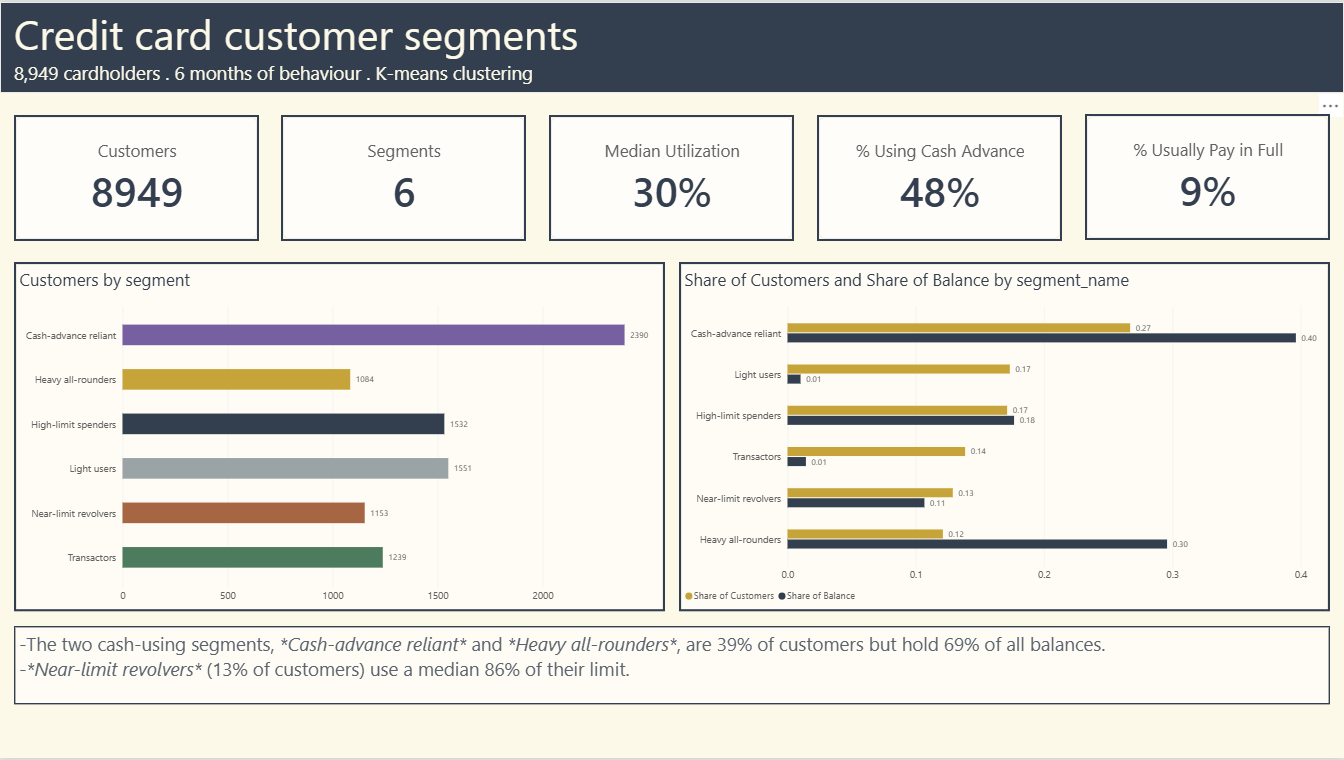

The page's visual inventory and layout, read from the dashboard file:
{"tool":"powerbi","page":{"name":"Overview","canvas":[1920,1080],"ordinal":0},"visuals":[{"type":"textbox","box":[0,0,1920,130],"z":0},{"type":"cardVisual","fields":{"Data":["_Measures.Customers"]},"box":[19.4,161.7,350,180],"z":1000},{"type":"cardVisual","fields":{"Data":["_Measures.Segments"]},"box":[402,161.2,350,180],"z":2000},{"type":"cardVisual","fields":{"Data":["_Measures.Median Utilization"]},"box":[784.7,161.2,350,180],"z":3000},{"type":"cardVisual","fields":{"Data":["_Measures.% Using Cash Advance"]},"box":[1167.3,161.2,350,180],"z":4000},{"type":"cardVisual","fields":{"Data":["_Measures.% Usually Pay in Full"]},"box":[1550,160.4,350,180],"z":5000},{"type":"clusteredBarChart","title":"Customers by segment ","fields":{"Category":["segments.segment_name"],"Y":["_Measures.Customers"]},"box":[19.4,371.3,930.2,499.4],"z":6000},{"type":"clusteredBarChart","fields":{"Category":["segments.segment_name"],"Y":["_Measures.Share of Customers","_Measures.Share of Balance"]},"box":[970.4,371.3,930.2,499.4],"z":7000},{"type":"textbox","box":[20,892.1,1880.1,111.8],"z":8000}]}

Visuals, with their boxes in screenshot pixels (x1, y1, x2, y2), scaled from the page's 1920x1080 canvas onto the 1344x760 screenshot:
textbox: 0,0,1343,91
cardVisual - _Measures.Customers: 14,114,259,240
cardVisual - _Measures.Segments: 281,113,526,240
cardVisual - _Measures.Median Utilization: 549,113,794,240
cardVisual - _Measures.% Using Cash Advance: 817,113,1062,240
cardVisual - _Measures.% Usually Pay in Full: 1085,113,1330,240
"Customers by segment " clusteredBarChart: 14,261,665,613
clusteredBarChart - segments.segment_name x _Measures.Share of Customers: 679,261,1330,613
textbox: 14,628,1330,706
